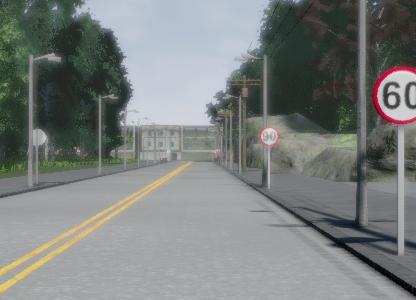Speed_60: (382, 47, 416, 118)
